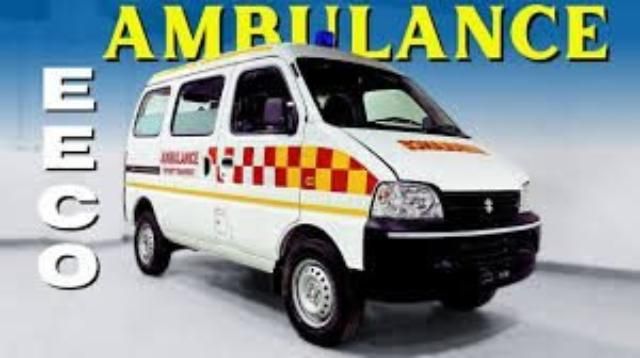ambulance: (126, 32, 538, 343)
